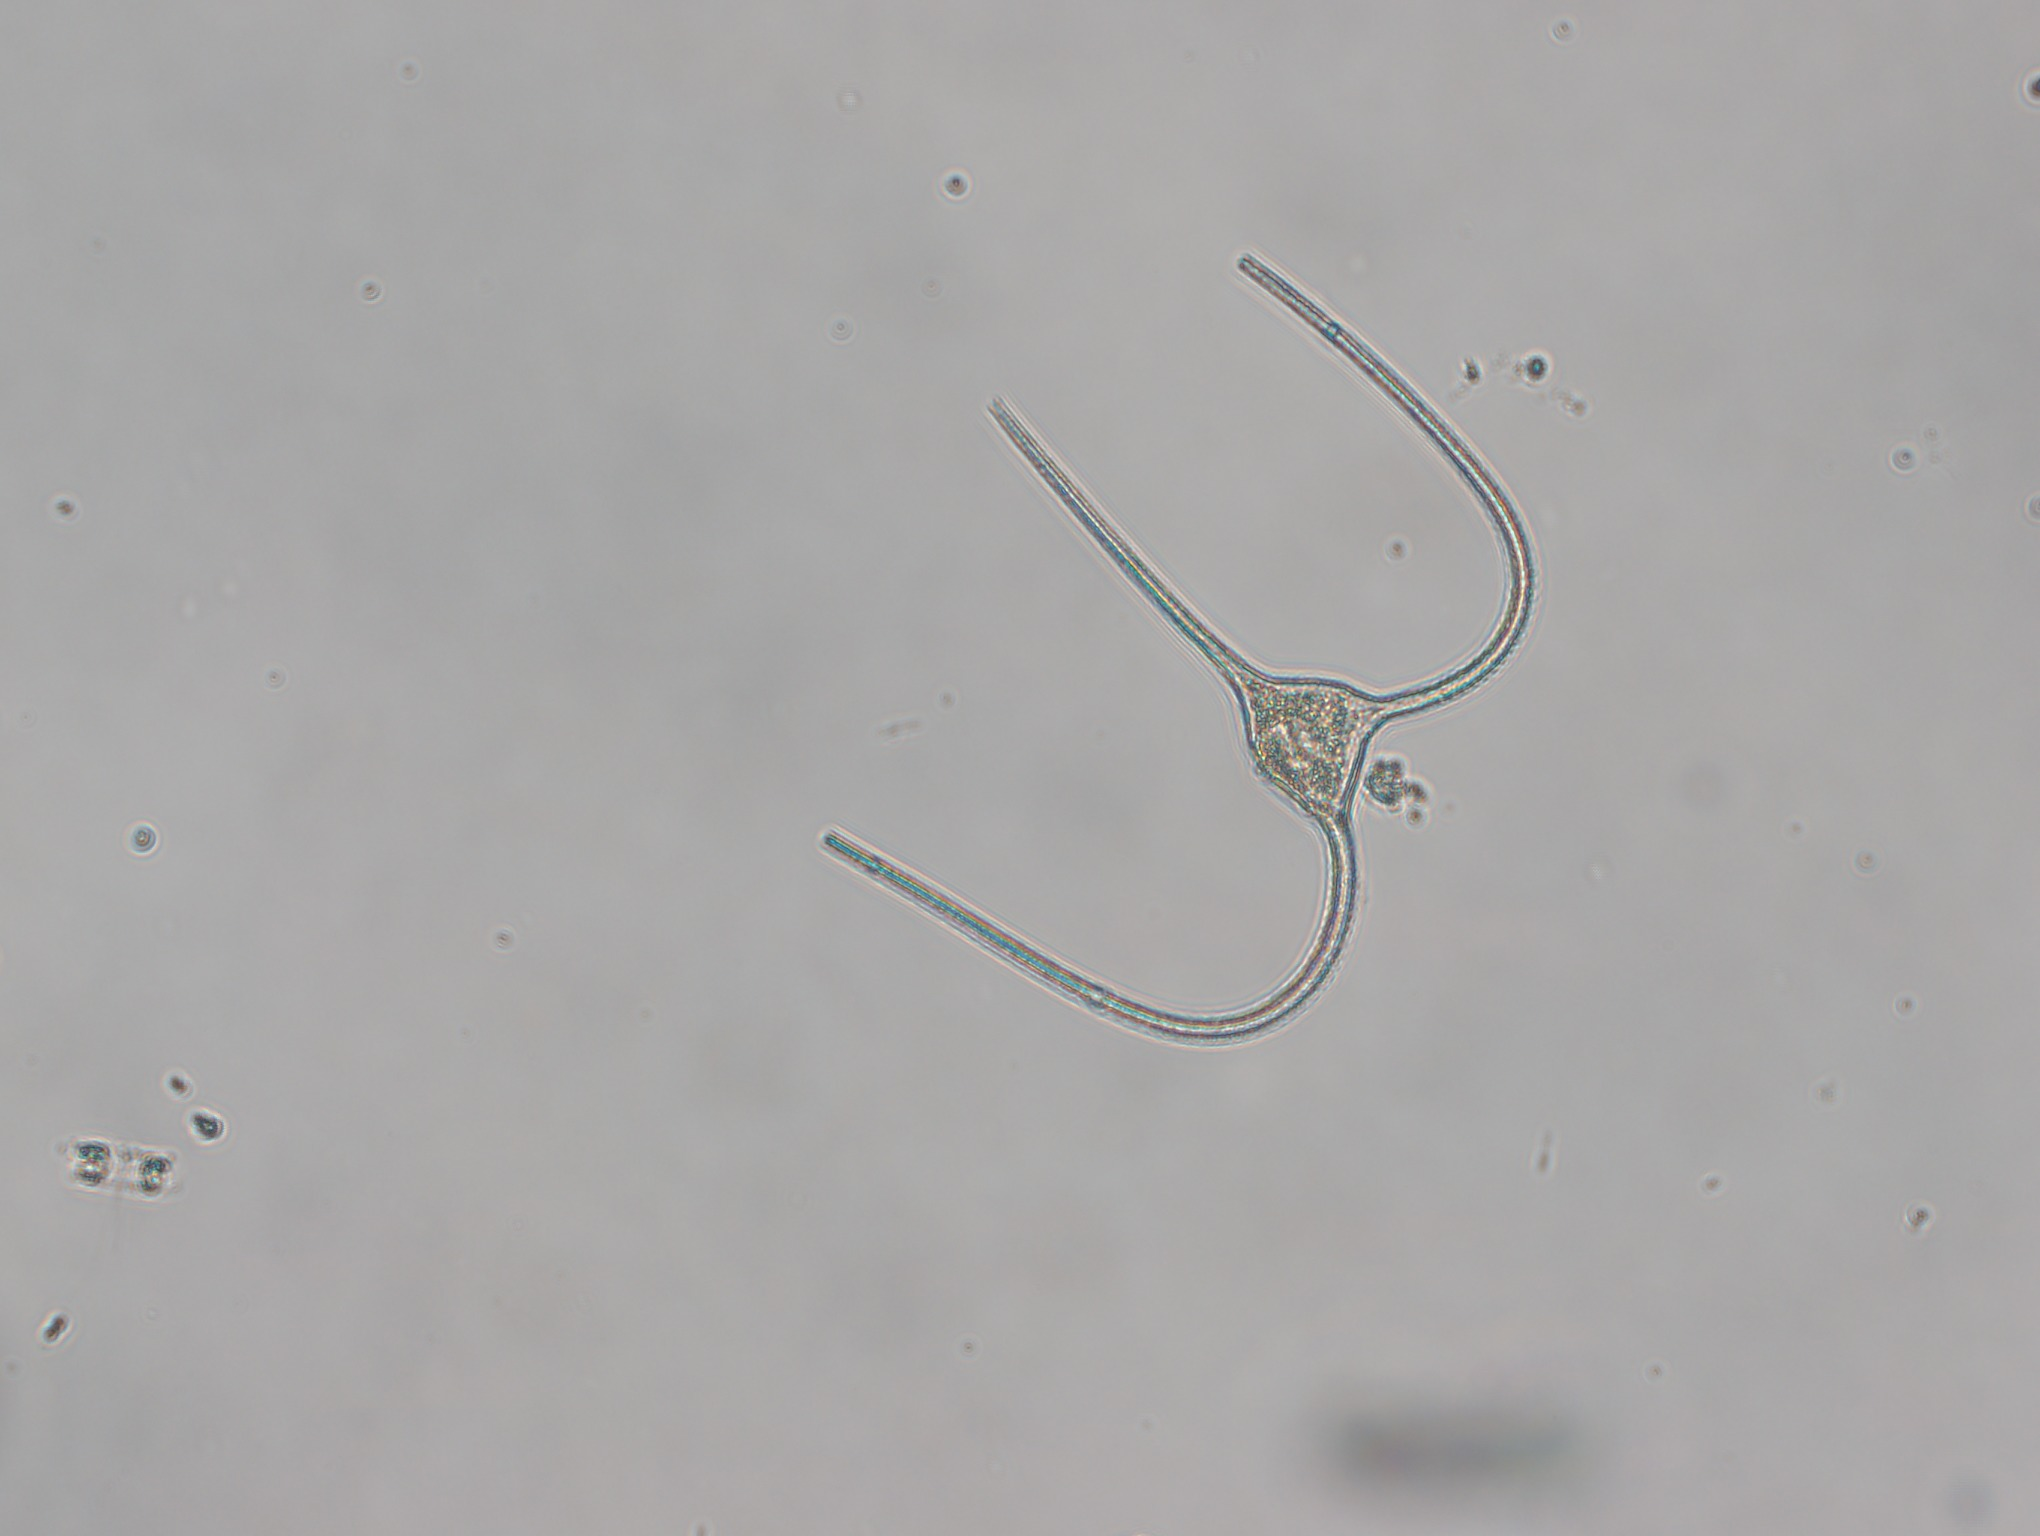ceratium tripos: (790, 227, 1551, 1066)
